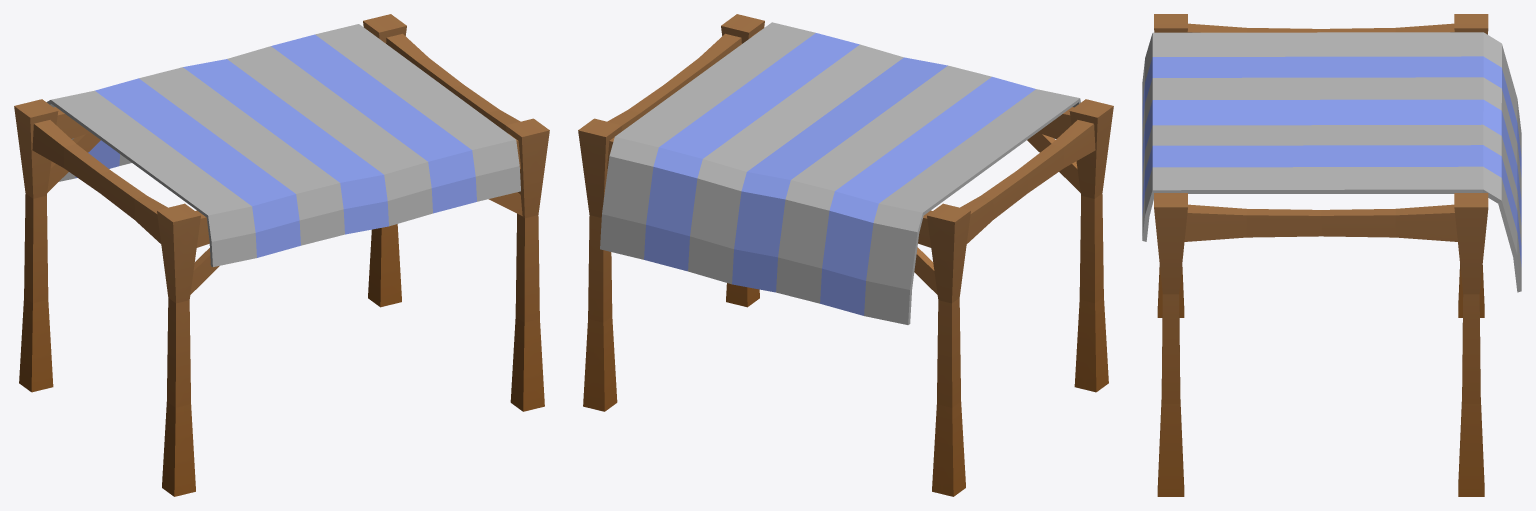
File: MarketplaceTop01.fbx
The picture shows the model from 3 angles, left to right: view 1: azimuth 30°, elevation 25°; view 2: azimuth 150°, elevation 25°; view 3: azimuth 270°, elevation 25°; orthographic projection. The views are drawn at different scales.
Visible parts, largest first — view 1: Marketplace.Top01; view 2: Marketplace.Top01; view 3: Marketplace.Top01.
Boxes of the visible parts, <box> form: Marketplace.Top01: <box>14,14,549,496</box>; Marketplace.Top01: <box>578,14,1113,496</box>; Marketplace.Top01: <box>1142,14,1521,496</box>.
Size of the model in its own units: 3.89 by 3.23 by 2.74.
